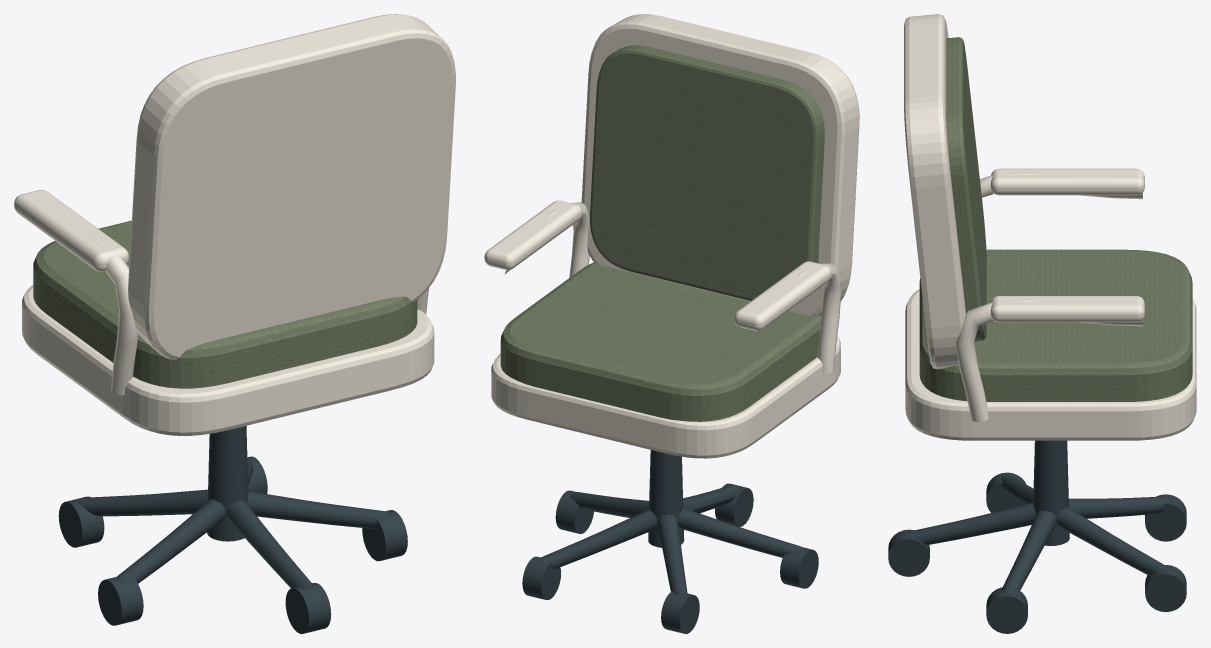
The model's file is chair.glb.
The picture shows the model from 3 angles, left to right: view 1: azimuth 30°, elevation 25°; view 2: azimuth 150°, elevation 25°; view 3: azimuth 270°, elevation 25°; orthographic projection. The views are drawn at different scales.
Parts seen in each view (by area): view 1: Chair_cream, Chair_charcoal, Chair_fabric; view 2: Chair_fabric, Chair_cream, Chair_charcoal; view 3: Chair_cream, Chair_fabric, Chair_charcoal.
Part boxes in pixels (x1,y1,x2,y2): Chair_cream: (14, 14, 455, 435); Chair_charcoal: (58, 426, 407, 633); Chair_fabric: (33, 220, 417, 388); Chair_fabric: (500, 45, 824, 421); Chair_cream: (484, 14, 859, 458); Chair_charcoal: (522, 450, 818, 633); Chair_cream: (904, 14, 1196, 440); Chair_fabric: (919, 37, 1192, 401); Chair_charcoal: (888, 440, 1186, 633).
Size of the model in its own units: 0.805 by 1.36 by 0.739.
Materials: 3 (1 with a texture image).
